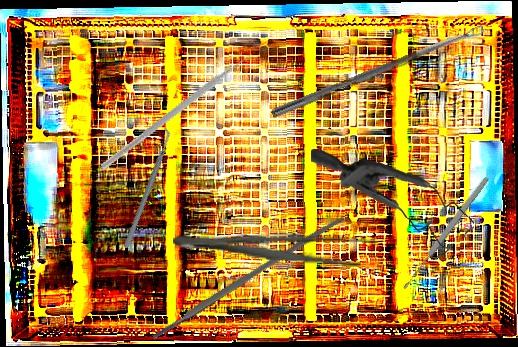Chopper: (99, 16, 266, 211), (85, 124, 208, 250)
Dressing Forceps: (172, 224, 379, 269)
Scalpel Handle: (150, 213, 346, 341)
Speculum: (311, 143, 475, 264)
Surgical Spoon: (270, 24, 486, 120), (400, 175, 491, 291)
